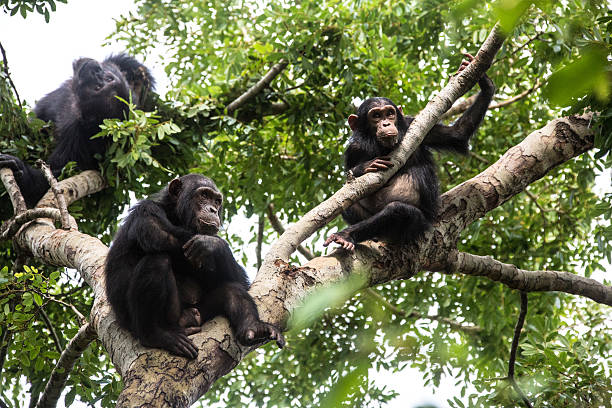chimpanzee: (163, 163, 234, 234), (343, 88, 403, 152)
